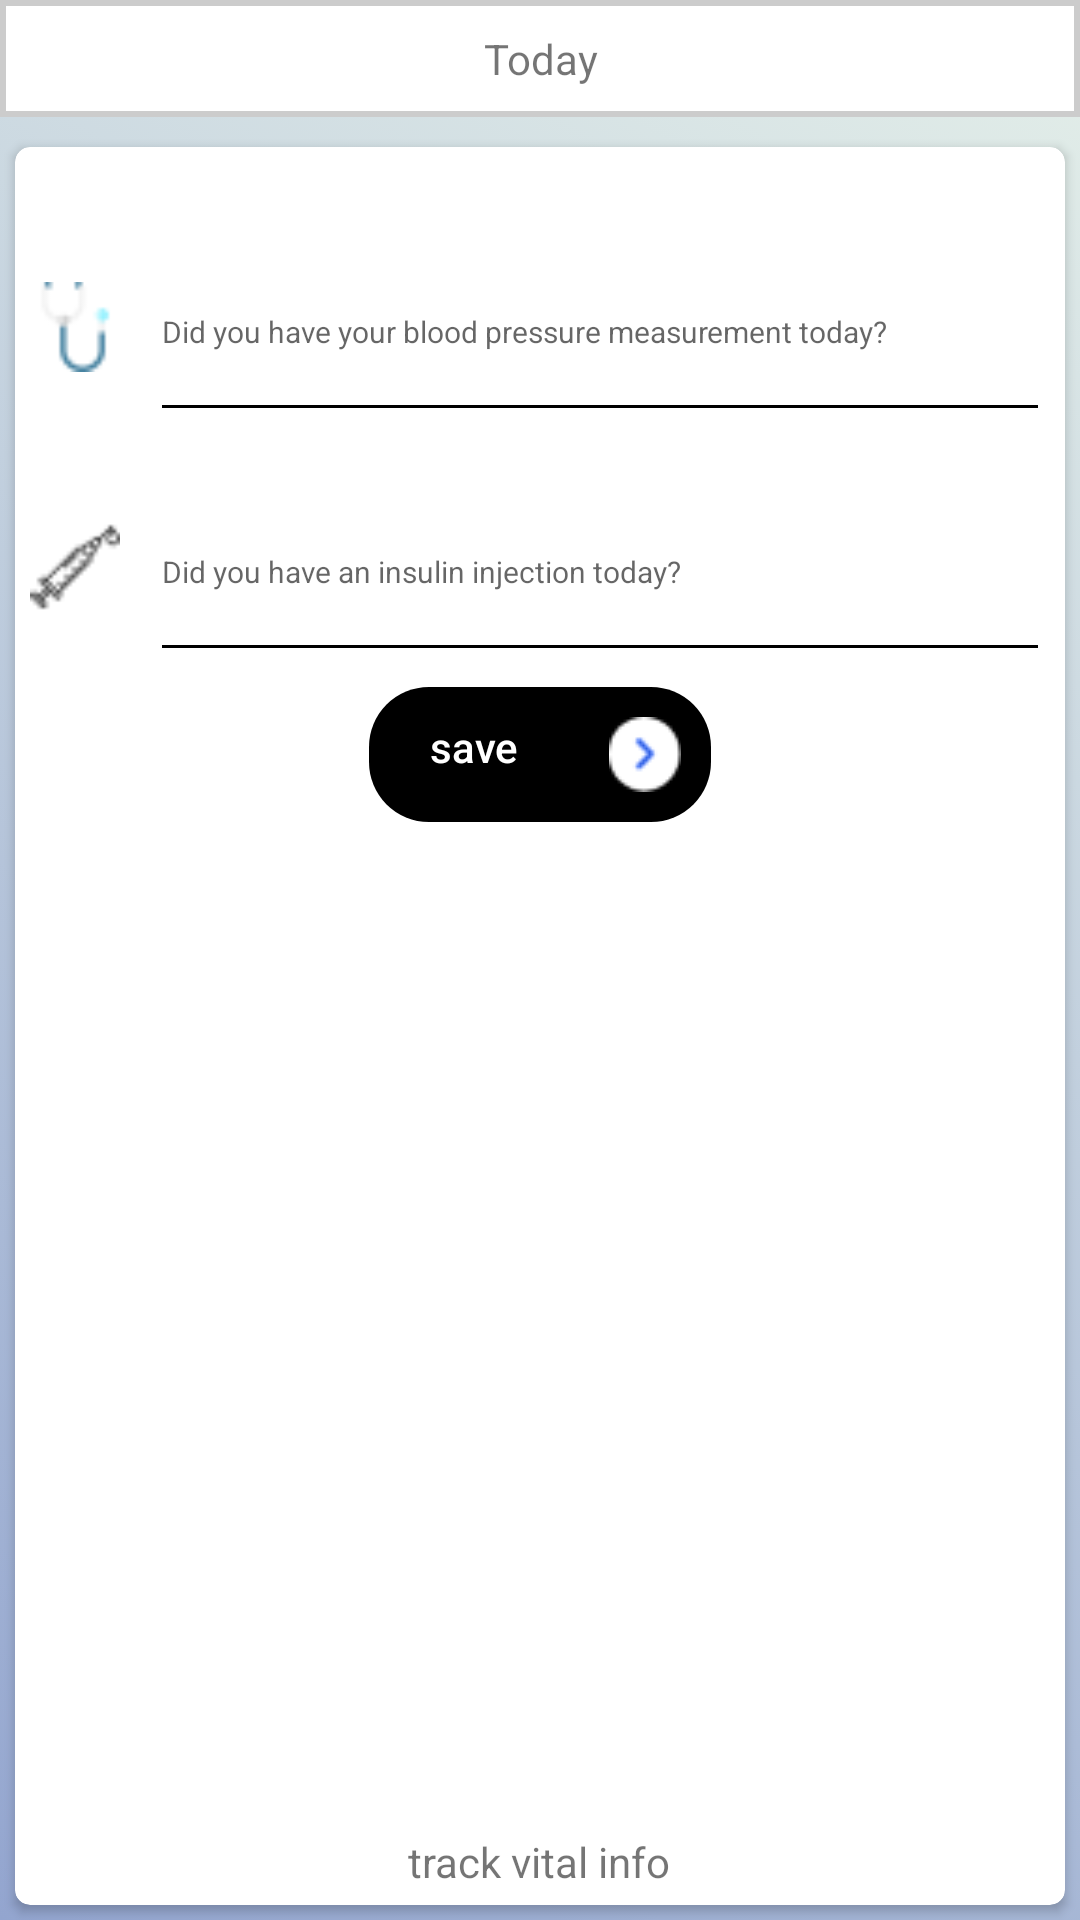

Where to tap for icons on this 1080px x 1920px app screen, as (x=x, y=y):
arrow: (x=645, y=754)
injection: (x=75, y=567)
stethoscope: (x=76, y=327)
